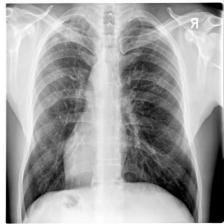tuberculosis: (13, 8, 207, 224)
